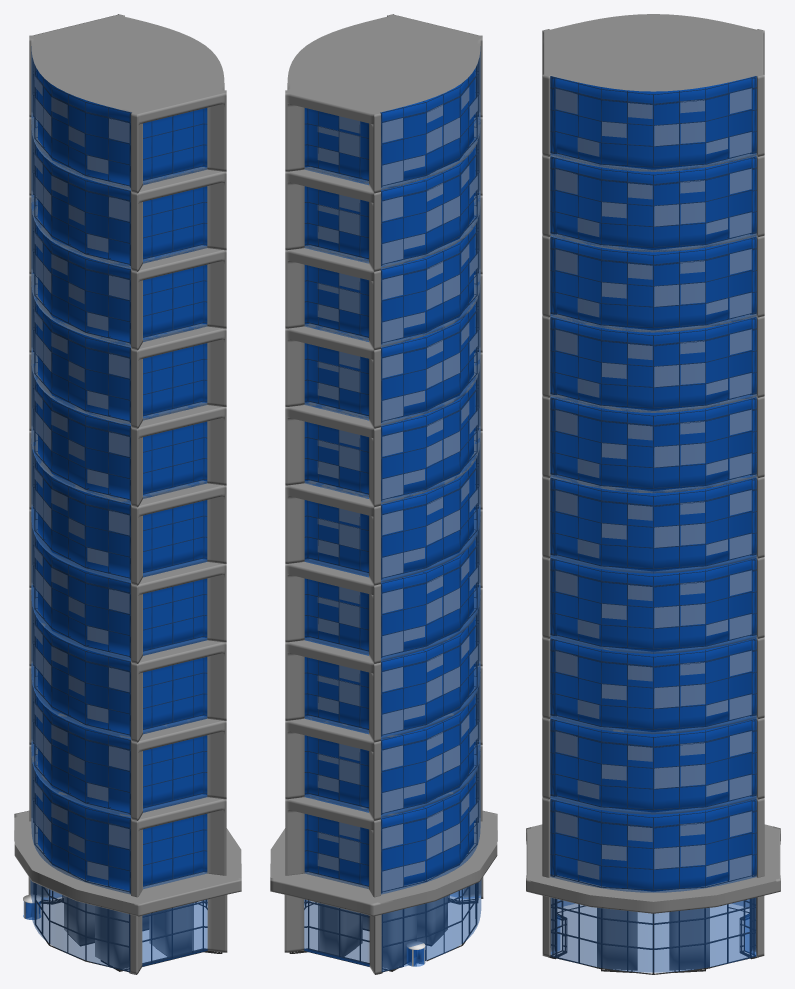
The model's file is GeometryNodes.fbx.
3 views of the same model, side by side, from view 1: azimuth 30°, elevation 25°; view 2: azimuth 150°, elevation 25°; view 3: azimuth 270°, elevation 25° (orthographic). The views are drawn at different scales.
Parts seen in each view (by area): view 1: Pisos.002, Piso1.001; view 2: Pisos.002, Piso1.001; view 3: Pisos.002, Piso1.001.
Part boxes in pixels (x1,y1,x2,y2): Pisos.002: (29, 14, 226, 897); Piso1.001: (14, 810, 241, 974); Pisos.002: (285, 14, 482, 897); Piso1.001: (270, 810, 497, 974); Pisos.002: (542, 14, 764, 892); Piso1.001: (526, 824, 780, 974).
Bounding box in the file's own units: 2391 × 10505 × 2692.
